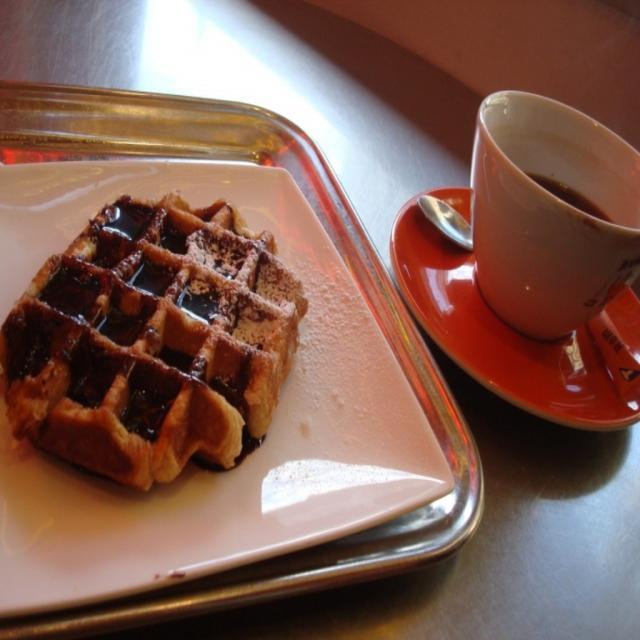Waffle: (0, 189, 308, 490)
